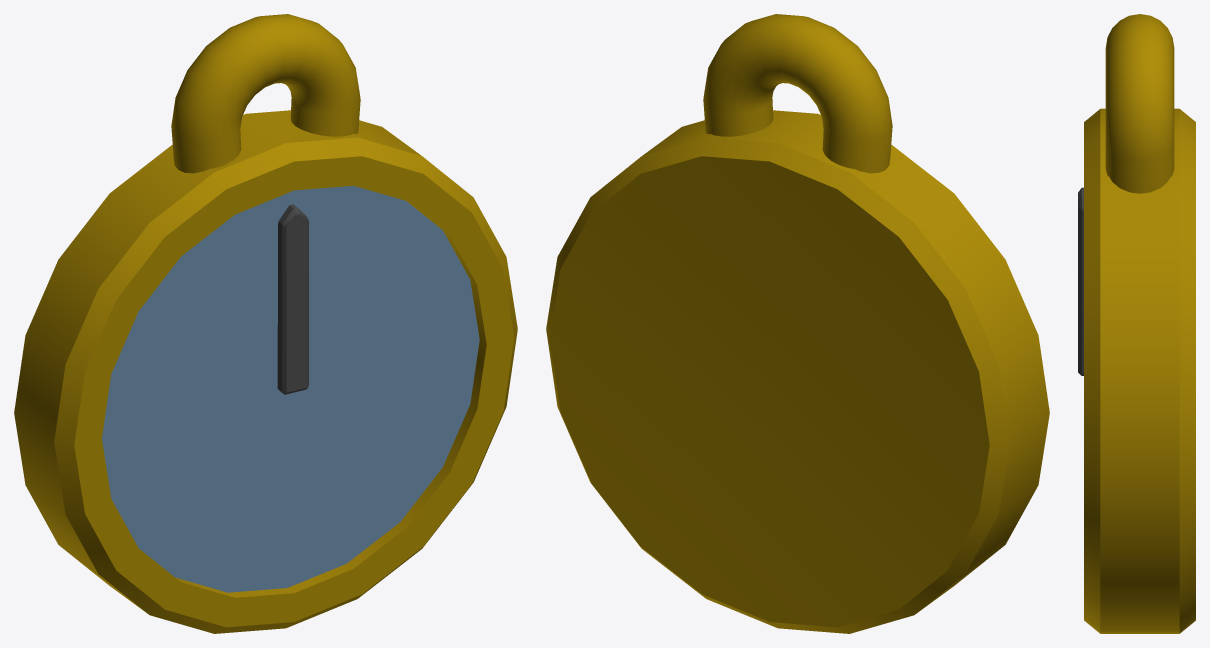
Rendered from Timer.fbx.
3 renders of one model, left to right at view 1: azimuth 30°, elevation 25°; view 2: azimuth 150°, elevation 25°; view 3: azimuth 270°, elevation 25°, orthographic.
Visible parts, largest first — view 1: pCylinder1, pCube1; view 2: pCylinder1; view 3: pCylinder1, pCube1.
Part boxes in pixels (bbox=[...]): pCylinder1: bbox=[14, 14, 517, 633]; pCube1: bbox=[277, 204, 308, 394]; pCylinder1: bbox=[546, 14, 1049, 633]; pCylinder1: bbox=[1084, 14, 1195, 633]; pCube1: bbox=[1078, 187, 1083, 375].
Size of the model in its own units: 886 by 1086 by 197.
